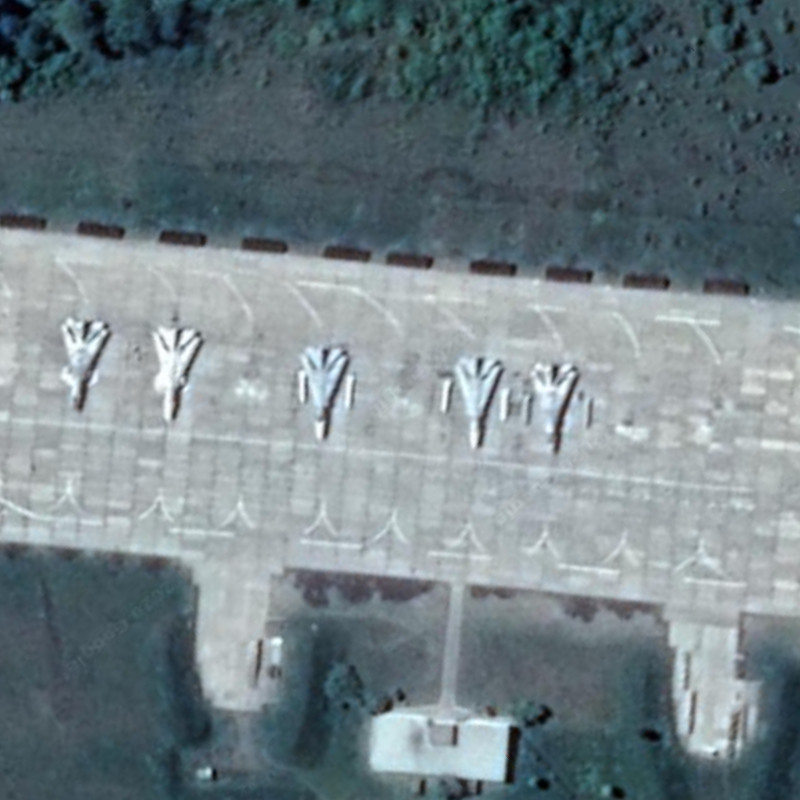A20: (149, 320, 208, 427), (57, 311, 115, 416), (295, 341, 354, 441), (449, 354, 507, 450), (527, 358, 579, 460)
